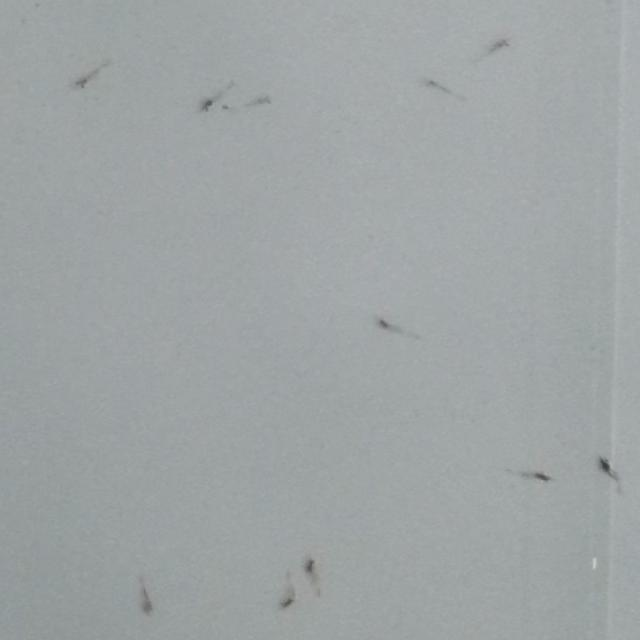shrimp-seed: (593, 456, 620, 480), (134, 588, 158, 614), (298, 554, 324, 578), (484, 38, 514, 56), (196, 96, 222, 116), (72, 71, 96, 91), (526, 470, 552, 488), (250, 94, 276, 110), (372, 316, 399, 331), (278, 592, 298, 612), (421, 78, 445, 90)
